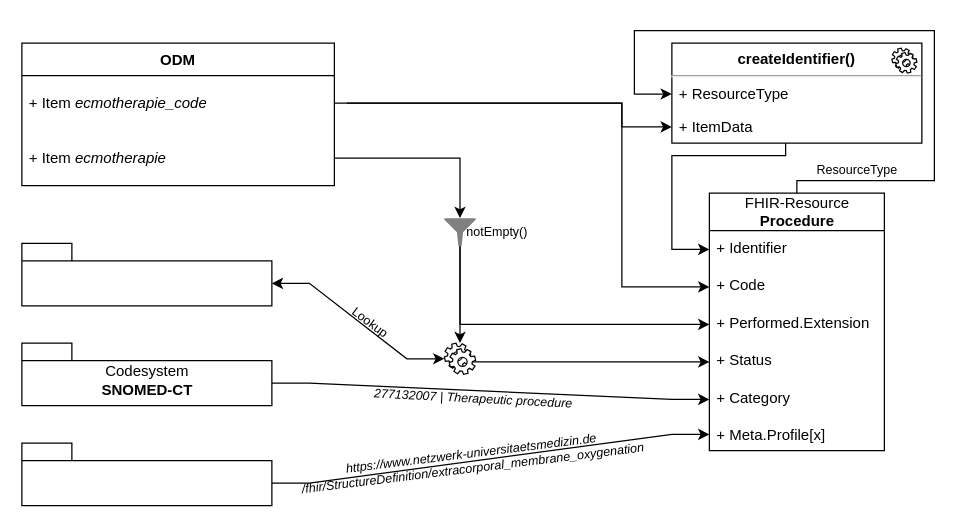
Some shapes in this 966 by 528 pixel diagram are drawn without their labels. The shapes that lost their labels are listed below. From the top down, each one's centre as x and y in pixels, then its label:
At (x=146, y=274): "ValueSet ObservationStatus".
At (x=146, y=474): "GECCO Profiles".
